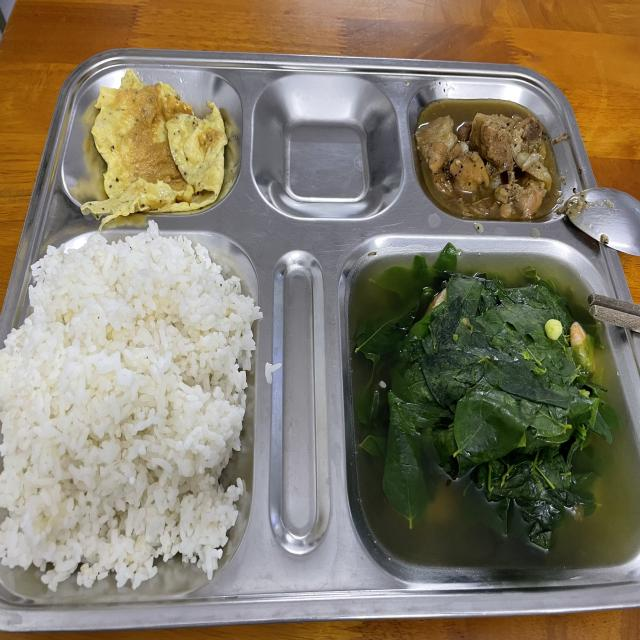com: (0, 224, 260, 590)
kho tieu: (414, 112, 556, 219)
trung chien: (83, 70, 228, 219)
